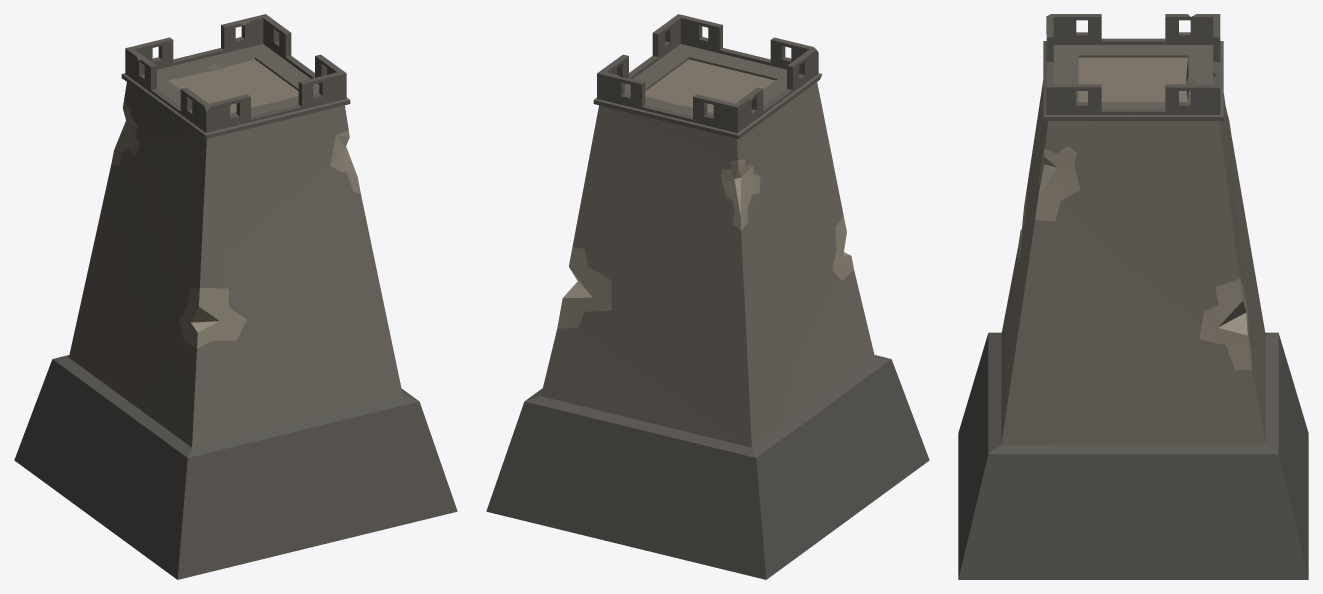
Rendered from SM_Bld_Fort_Tower_01.fbx.
The picture shows the model from 3 angles, left to right: view 1: azimuth 30°, elevation 25°; view 2: azimuth 150°, elevation 25°; view 3: azimuth 270°, elevation 25°; orthographic projection. The views are drawn at different scales.
Parts seen in each view (by area): view 1: SM_Bld_Fort_Tower_01; view 2: SM_Bld_Fort_Tower_01; view 3: SM_Bld_Fort_Tower_01.
Boxes of the visible parts, x1,y1,x2,y2 form: SM_Bld_Fort_Tower_01: (14,14,457,579); SM_Bld_Fort_Tower_01: (486,14,929,579); SM_Bld_Fort_Tower_01: (958,14,1308,579).
Bounding box in the file's own units: 13.98 × 20.28 × 14.13.
